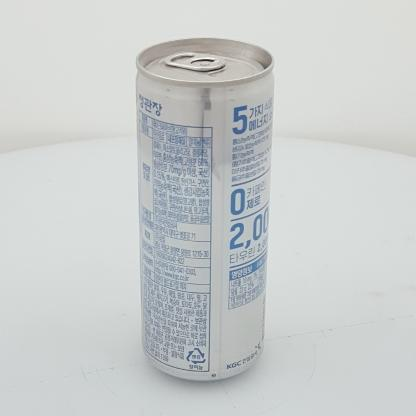---------: (136, 37, 274, 381)
